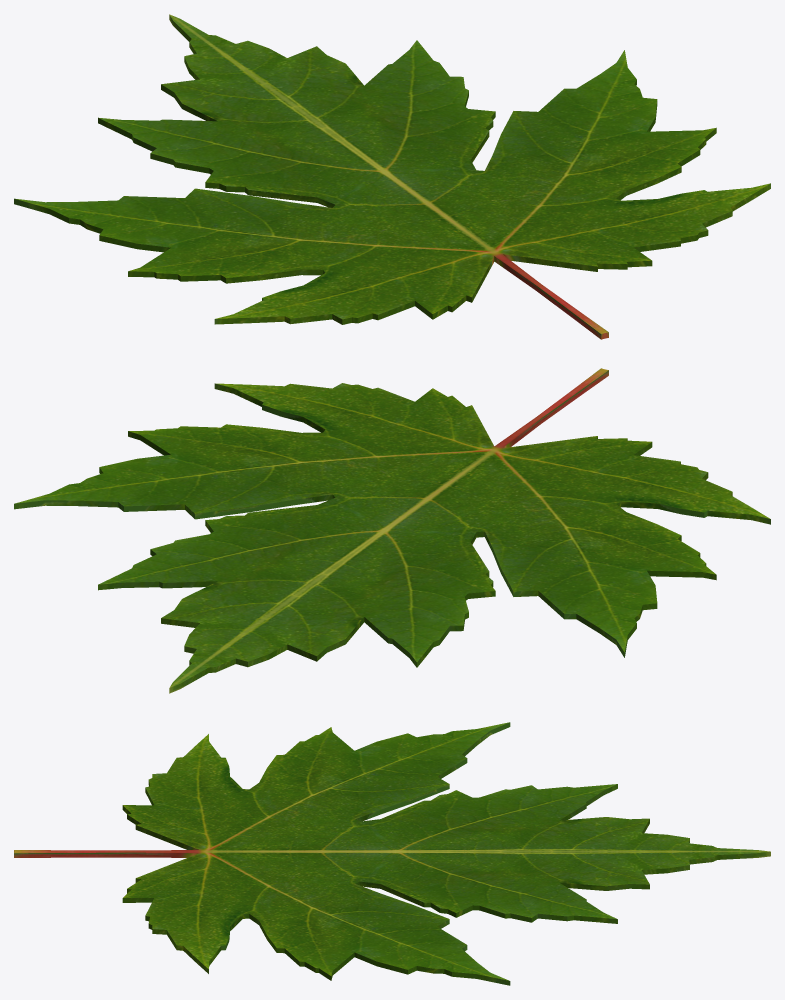
The model's file is Full_leaves.glb.
3 views of the same model, one above another, from view 1: azimuth 30°, elevation 25°; view 2: azimuth 150°, elevation 25°; view 3: azimuth 270°, elevation 25° (orthographic). The views are drawn at different scales.
Parts seen in each view (by area): view 1: Leaf; view 2: Leaf; view 3: Leaf.
Boxes of the visible parts, left/top/right/bottom form: Leaf: left=14, top=14, right=770, bottom=339; Leaf: left=14, top=368, right=770, bottom=693; Leaf: left=14, top=722, right=770, bottom=985.
Bounding box in the file's own units: 2.92 × 0.0253 × 3.61.
1 material, 1 textured.
